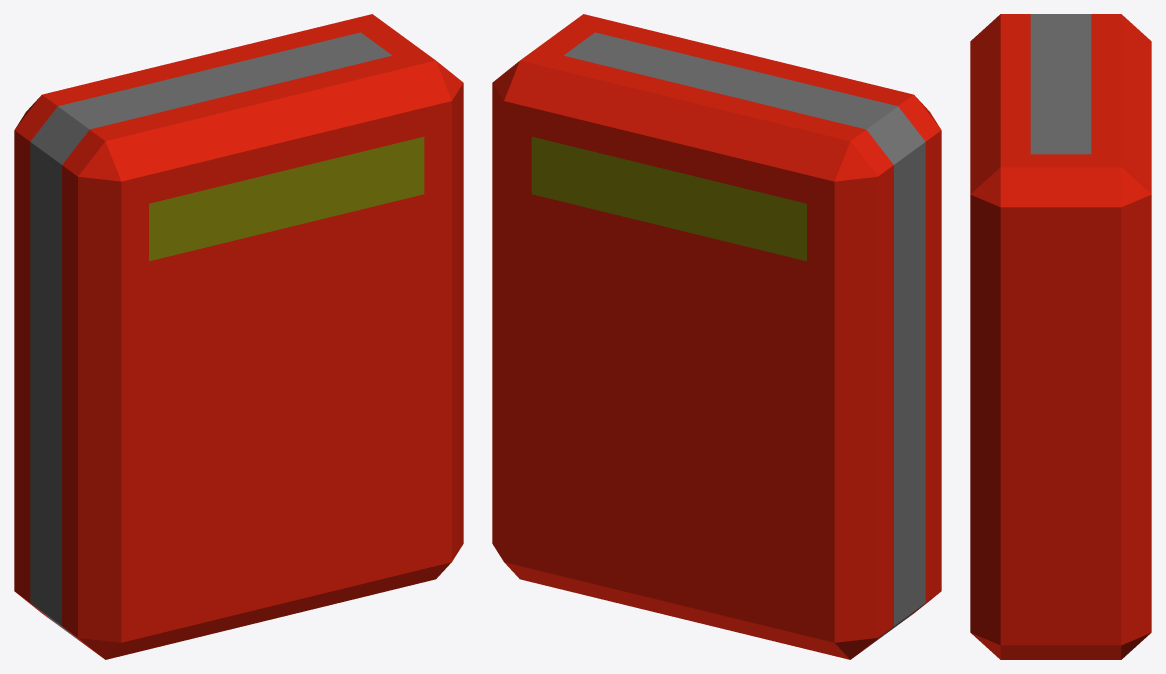
The model's file is Book1.fbx.
3 renders of one model, left to right at view 1: azimuth 30°, elevation 25°; view 2: azimuth 150°, elevation 25°; view 3: azimuth 270°, elevation 25°, orthographic. The views are drawn at different scales.
Parts seen in each view (by area): view 1: Book1; view 2: Book1; view 3: Book1.
Part boxes in pixels (bbox=[...]): Book1: bbox=[14, 14, 463, 659]; Book1: bbox=[492, 14, 941, 659]; Book1: bbox=[970, 14, 1151, 659].
Bounding box in the file's own units: 70 × 90 × 30.
